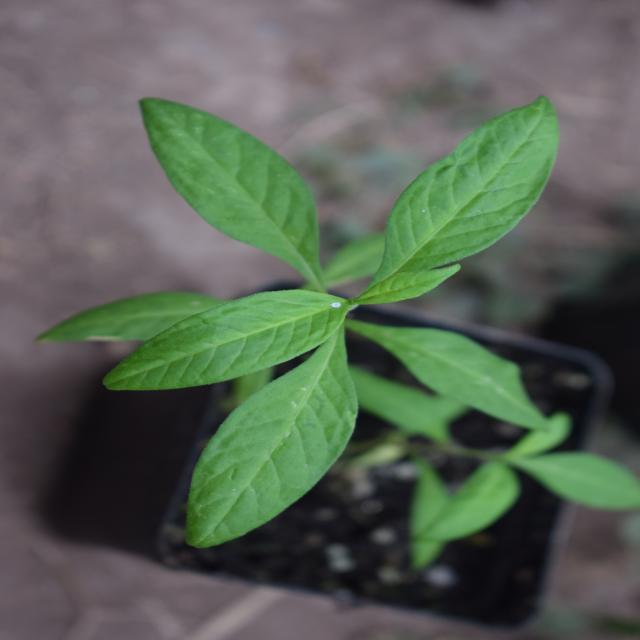white_smart_weed: (93, 52, 526, 555)
